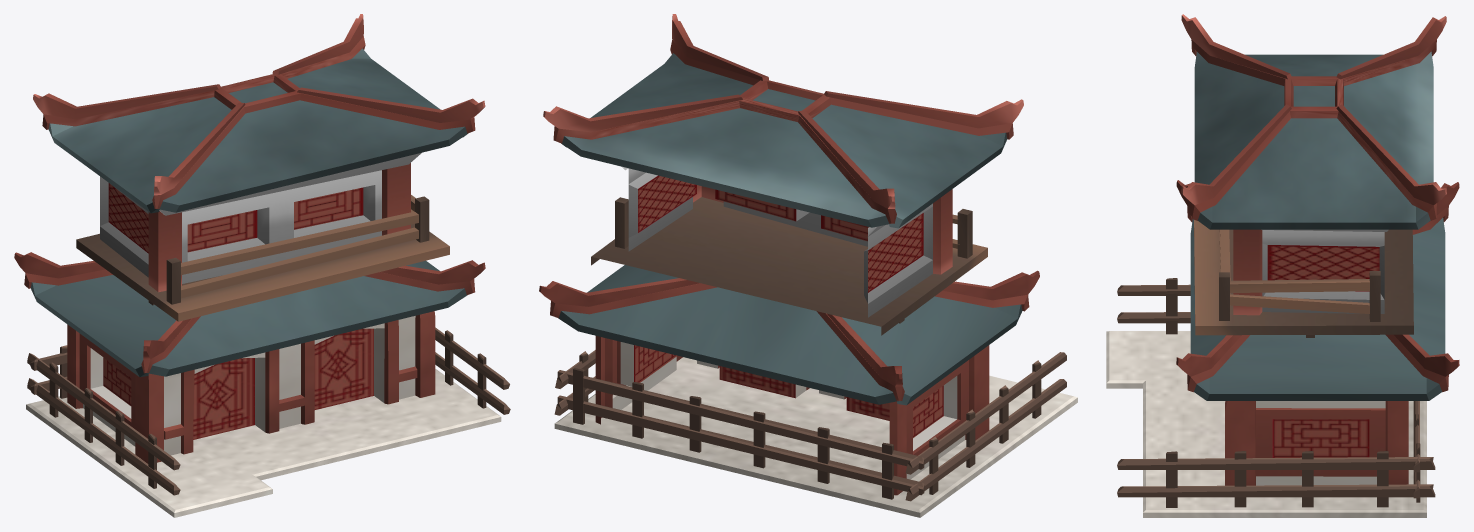
The model's file is camp_2lvl.fbx.
The picture shows the model from 3 angles, left to right: view 1: azimuth 30°, elevation 25°; view 2: azimuth 150°, elevation 25°; view 3: azimuth 270°, elevation 25°; orthographic projection. The views are drawn at different scales.
Visible parts, largest first — view 1: camp_2lvl; view 2: camp_2lvl; view 3: camp_2lvl.
Boxes of the visible parts, left/top/right/bottom form: camp_2lvl: left=14, top=14, right=510, bottom=517; camp_2lvl: left=539, top=14, right=1077, bottom=517; camp_2lvl: left=1106, top=14, right=1459, bottom=517.
Size of the model in its own units: 6.04 by 5.28 by 4.94.
